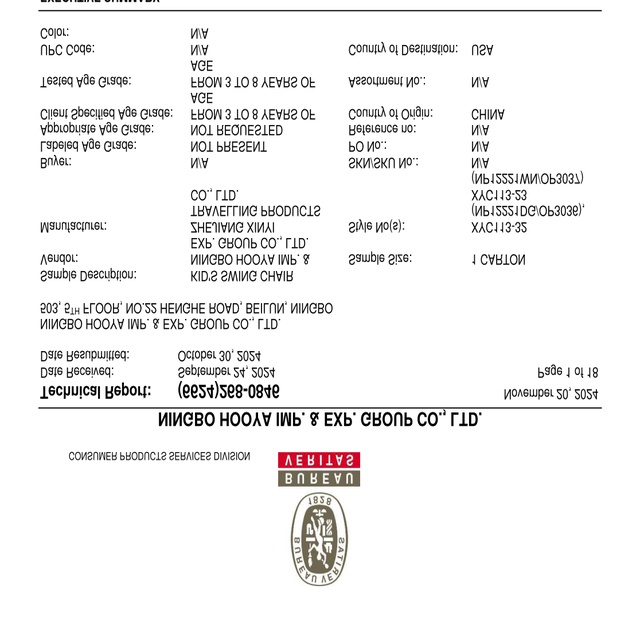bureau_veritas: (279, 449, 363, 586)
